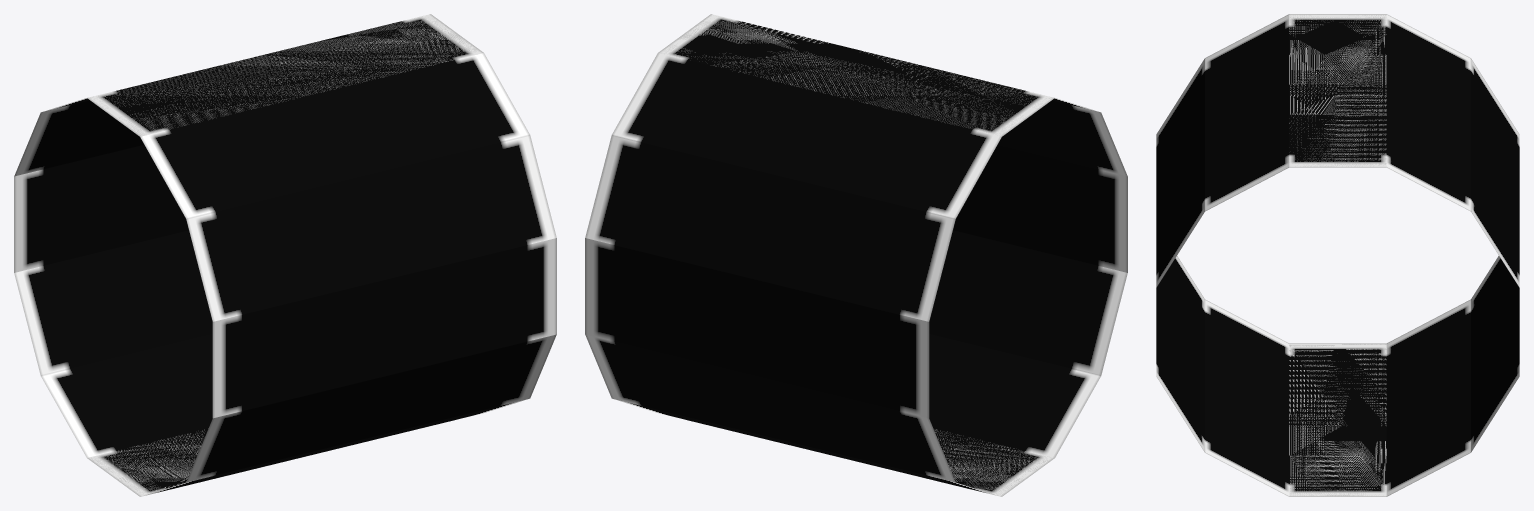
File: MHUD1_3.obj
3 views of the same model, side by side, from view 1: azimuth 30°, elevation 25°; view 2: azimuth 150°, elevation 25°; view 3: azimuth 270°, elevation 25° (orthographic). The views are drawn at different scales.
Parts seen in each view (by area): view 1: cylinder; view 2: cylinder; view 3: cylinder.
Part boxes in pixels (x1,y1,x2,y2): cylinder: [14, 14, 556, 496]; cylinder: [585, 14, 1127, 496]; cylinder: [1156, 14, 1519, 496].
Bounding box in the file's own units: 1 × 1 × 1.
